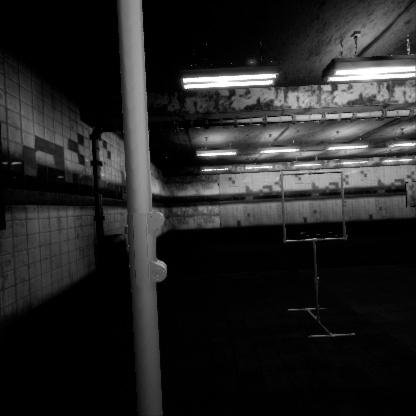gate: (280, 172, 351, 246)
